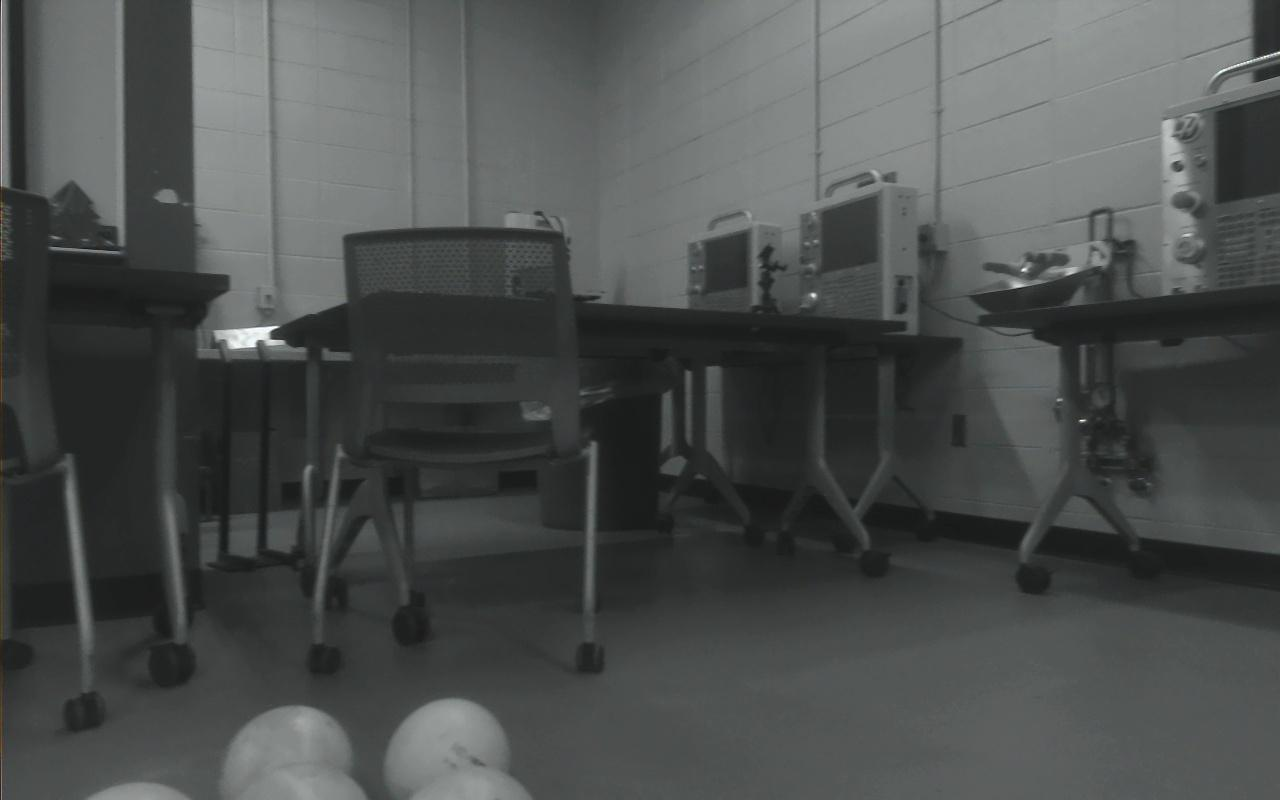Fuel: (383, 697, 511, 800), (221, 704, 356, 800), (234, 760, 369, 800), (408, 764, 534, 800), (86, 782, 192, 800)
